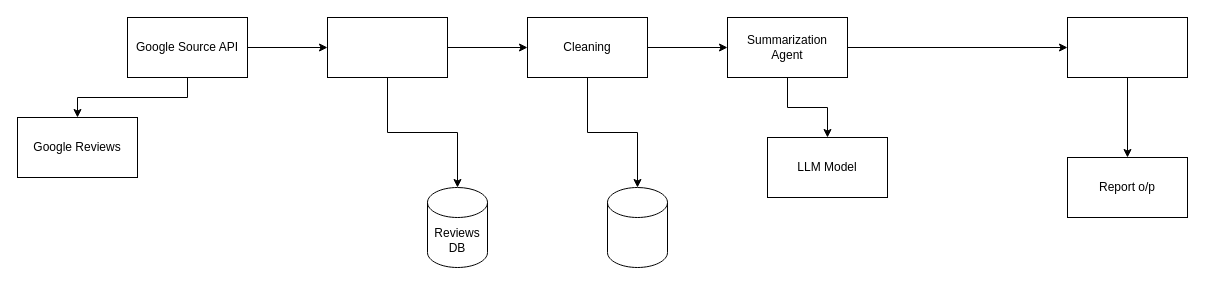
The diagram is 1205 pixels wide and 285 high, and some of its shapes have lost their labels. Here are the shapes that lost their labels. From the top down, the centre of each, then its label:
At point (387, 47): "Pull APi".
At point (1127, 47): "Report Generation Srvc".
At point (637, 227): "Cleaned Embedding".
